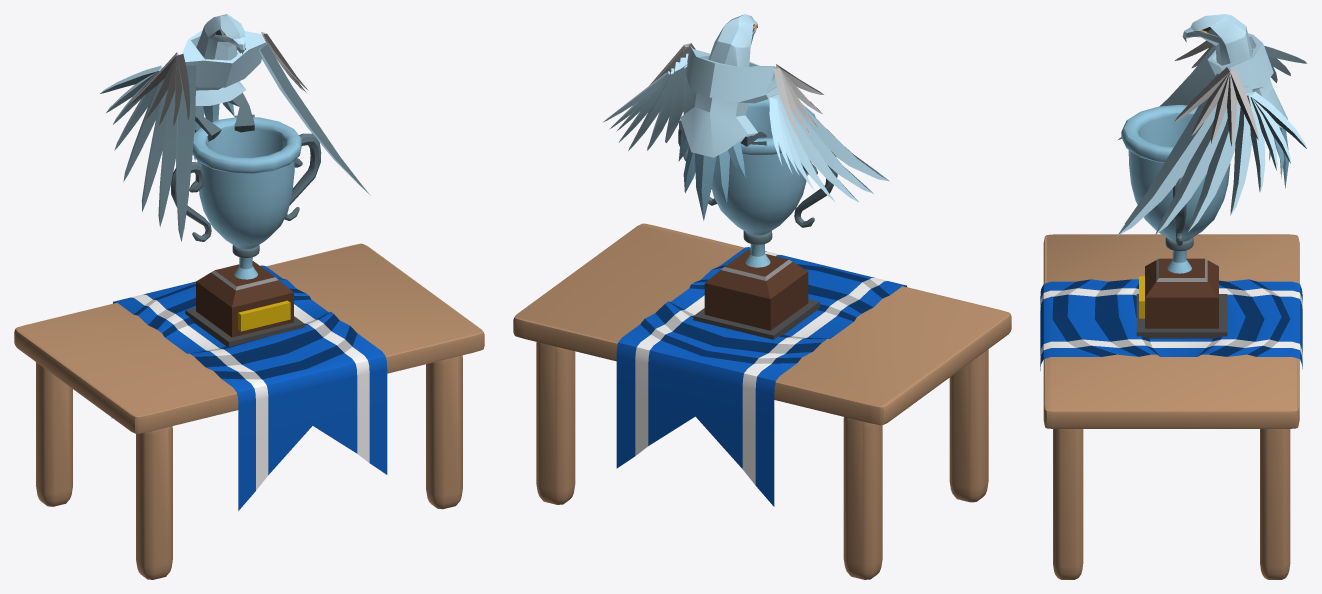
The picture shows the model from 3 angles, left to right: view 1: azimuth 30°, elevation 25°; view 2: azimuth 150°, elevation 25°; view 3: azimuth 270°, elevation 25°; orthographic projection. The views are drawn at different scales.
Visible parts, largest first — view 1: Trophy_Silver; view 2: Trophy_Silver; view 3: Trophy_Silver.
Boxes of the visible parts, <box> form: Trophy_Silver: <box>14,14,484,579</box>; Trophy_Silver: <box>513,14,1011,579</box>; Trophy_Silver: <box>1040,14,1306,579</box>.
Bounding box in the file's own units: 1.3 × 1.65 × 0.8224.
Materials: 1 (1 with a texture image).
